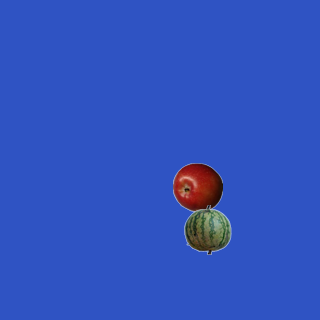Apple Braeburn: (172, 162, 222, 212)
Watermelon: (182, 204, 232, 254)
